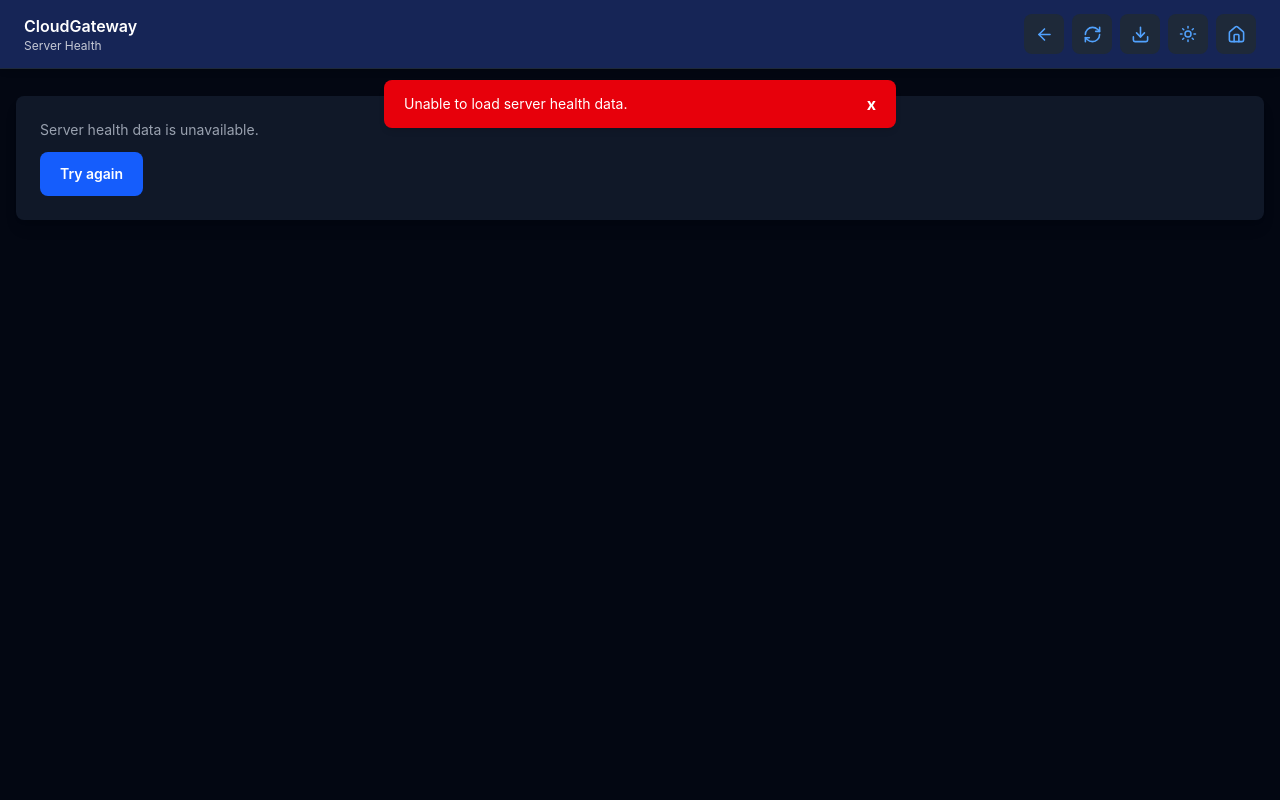
it: ServerHealth › retries the failed load from the in-card Try again button
The image size is (1280, 800).
Click the button "Try again" at coordinates (92, 174), box [40,152,143,196]
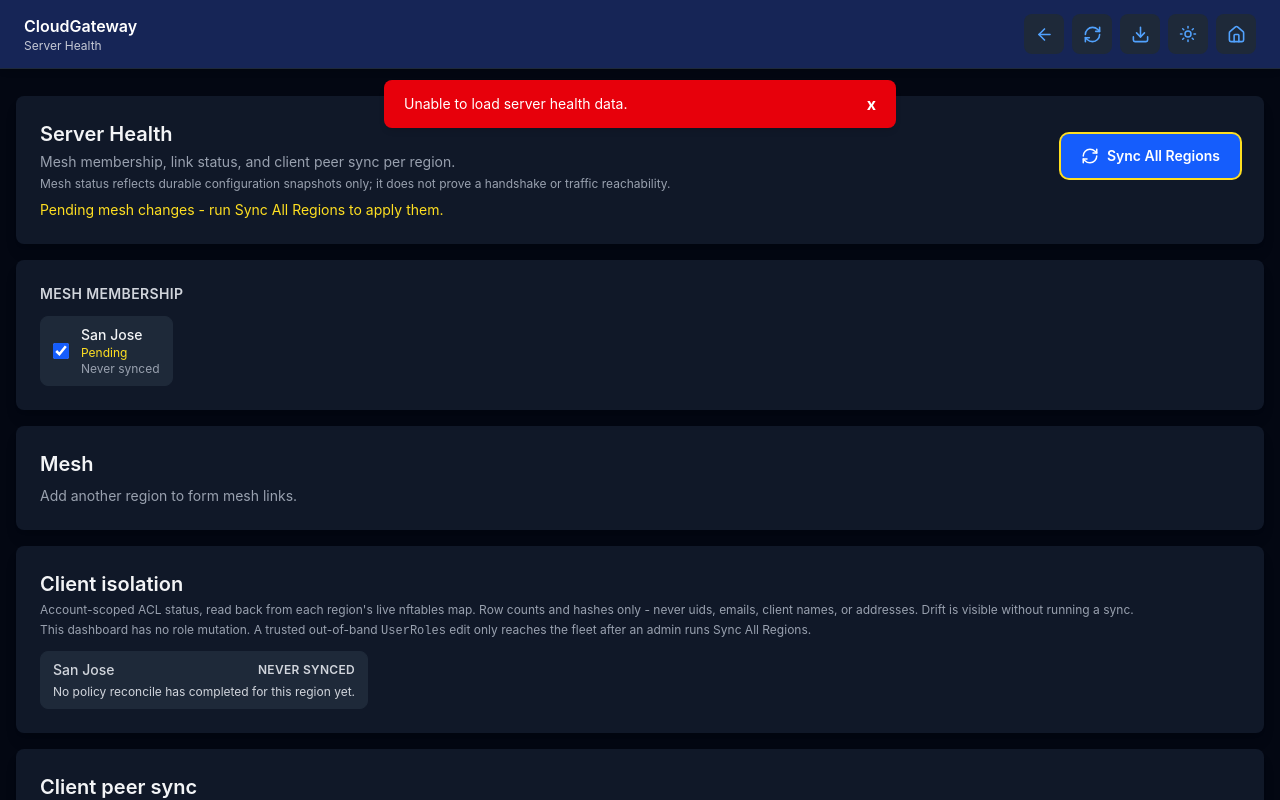
expect the checkbox named "Mesh enabled for San Jose" is shown: met, box [53,343,69,359]
expect the text "Server health data is unavailable." is gone: met
